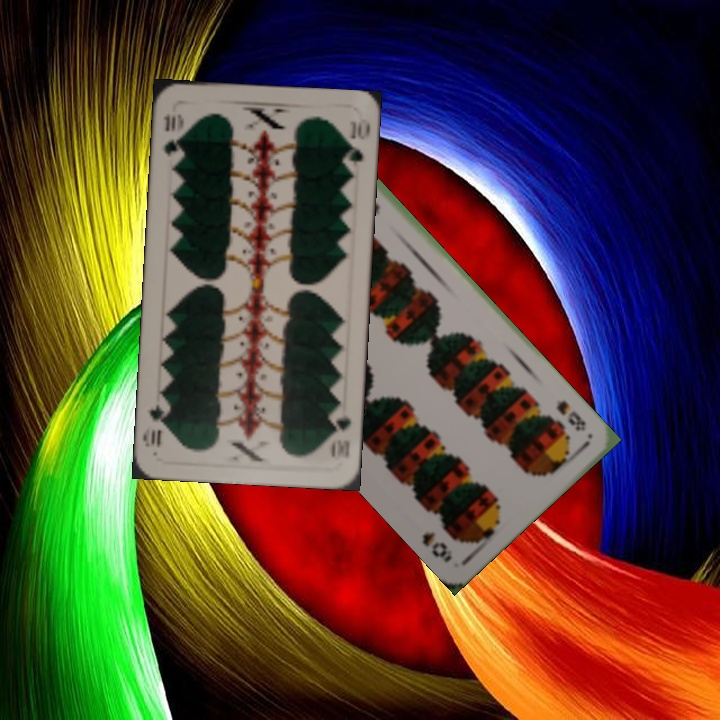G10: (327, 404, 353, 460), (159, 109, 186, 158)
S8: (552, 395, 589, 434)
